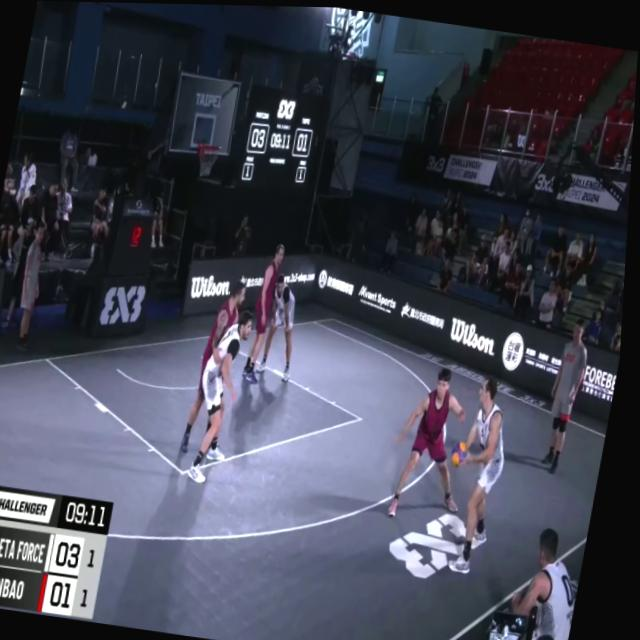ball: (452, 434, 476, 469)
hoop: (192, 134, 225, 181)
player: (392, 347, 489, 532), (431, 369, 515, 576), (180, 271, 259, 463), (186, 300, 258, 487), (245, 242, 288, 378), (261, 272, 310, 379)
